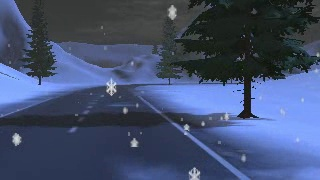Lane: (0, 83, 248, 179)
